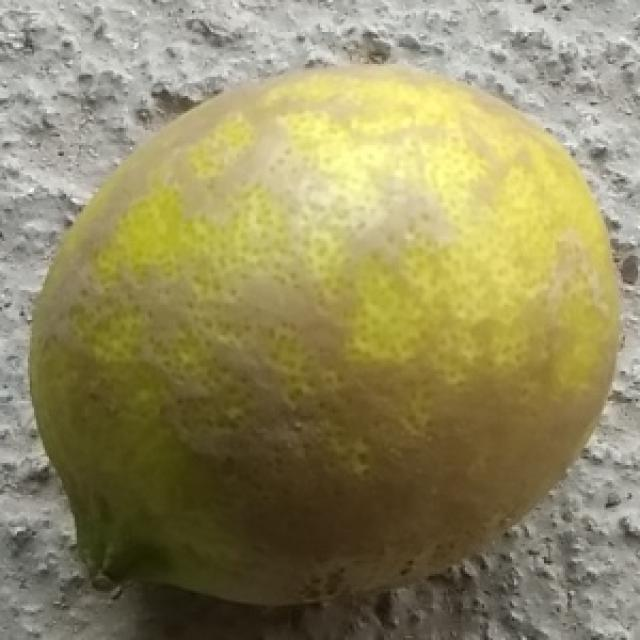overripe: (21, 59, 630, 612)
